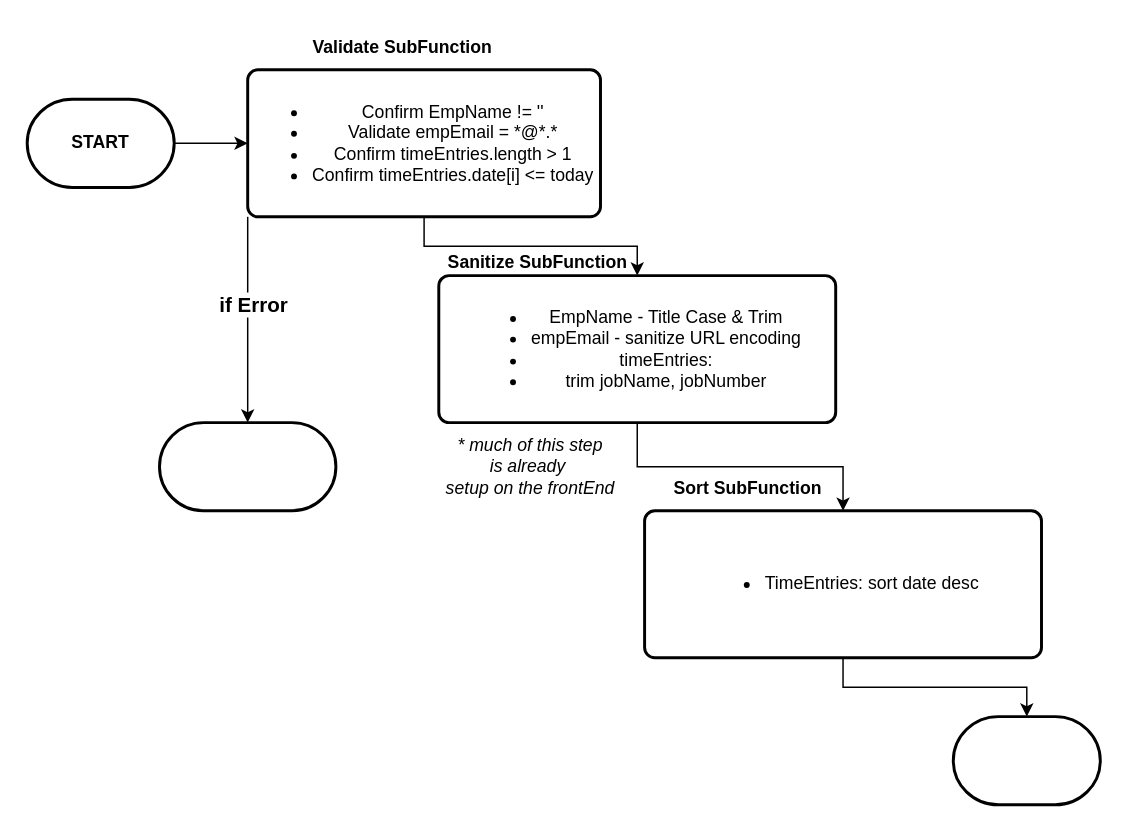
Image size: 1126x831. Some labels were removed from this diagram. The shapes that lost their labels are listed below. From the top down, each one's centre as x and y in pixels, then its label:
pixel 247 466: Return 400
pixel 1026 760: NEXT()
